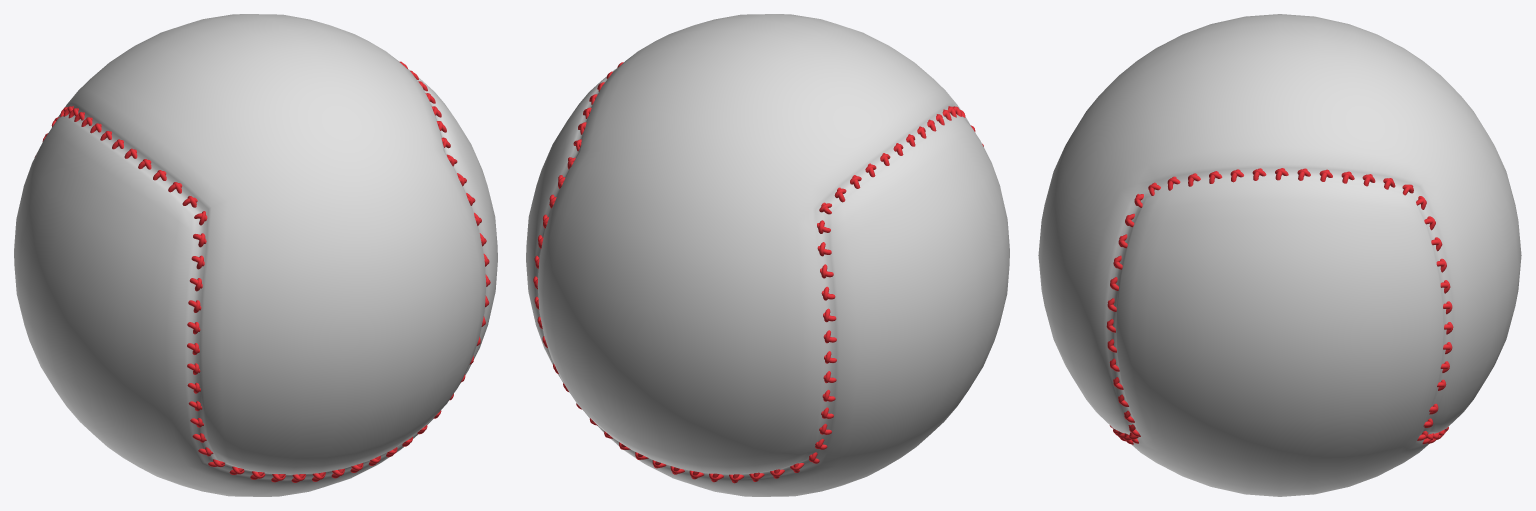
File: baseball.glb
3 renders of one model, left to right at view 1: azimuth 30°, elevation 25°; view 2: azimuth 150°, elevation 25°; view 3: azimuth 270°, elevation 25°, orthographic.
Visible parts, largest first — view 1: Cube, BézierCurve; view 2: Cube, BézierCurve; view 3: Cube, BézierCurve.
Part boxes in pixels (x1,y1,x2,y2): Cube: (14, 14, 497, 496); BézierCurve: (34, 61, 490, 482); Cube: (526, 14, 1009, 496); BézierCurve: (533, 62, 983, 483); Cube: (1038, 14, 1521, 496); BézierCurve: (1106, 168, 1453, 444).
Size of the model in its own units: 2.58 by 2.58 by 2.58.
